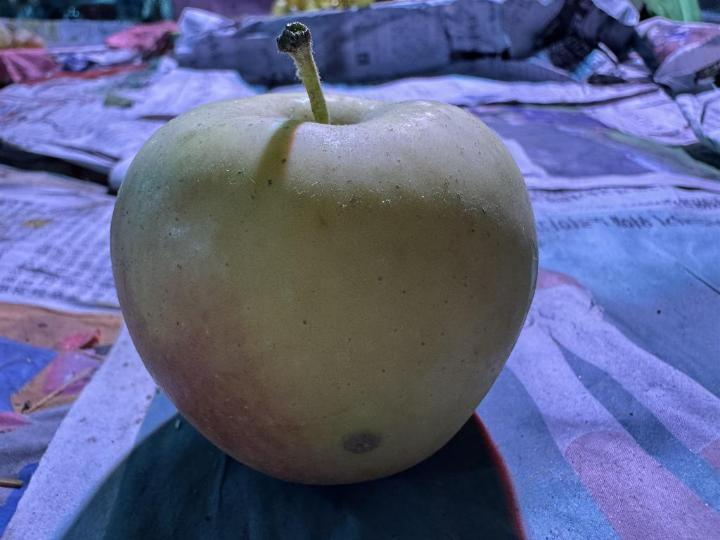apple: (111, 23, 538, 484)
surface_damage: (343, 433, 380, 454)
